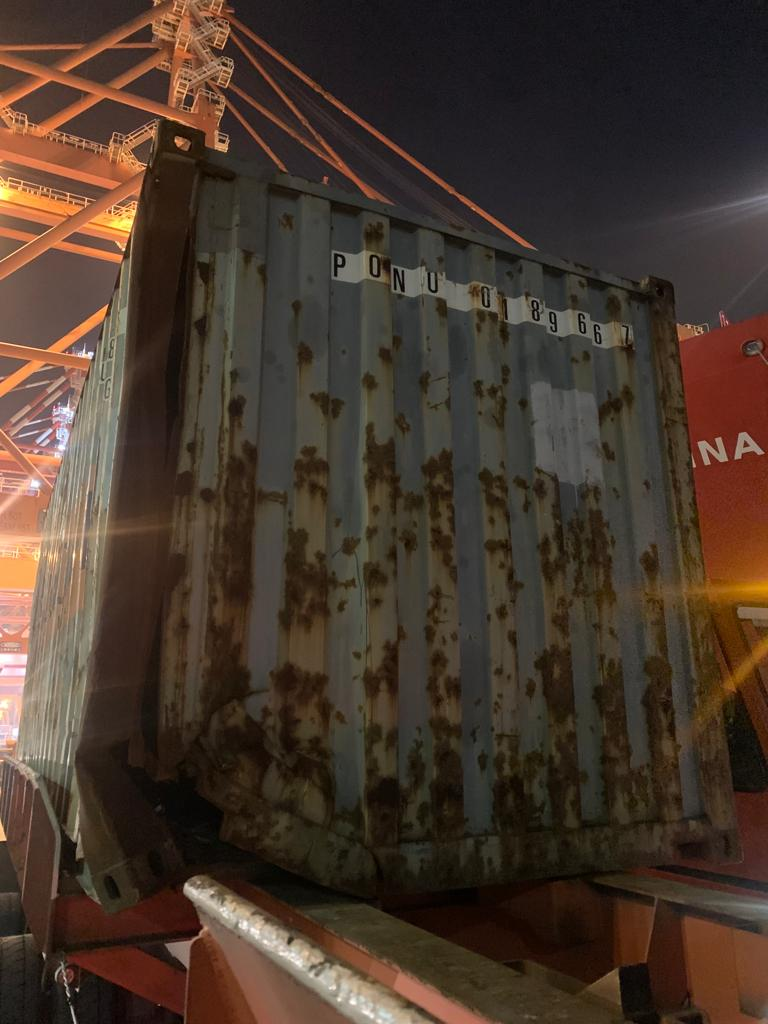rust: (184, 344, 639, 834)
